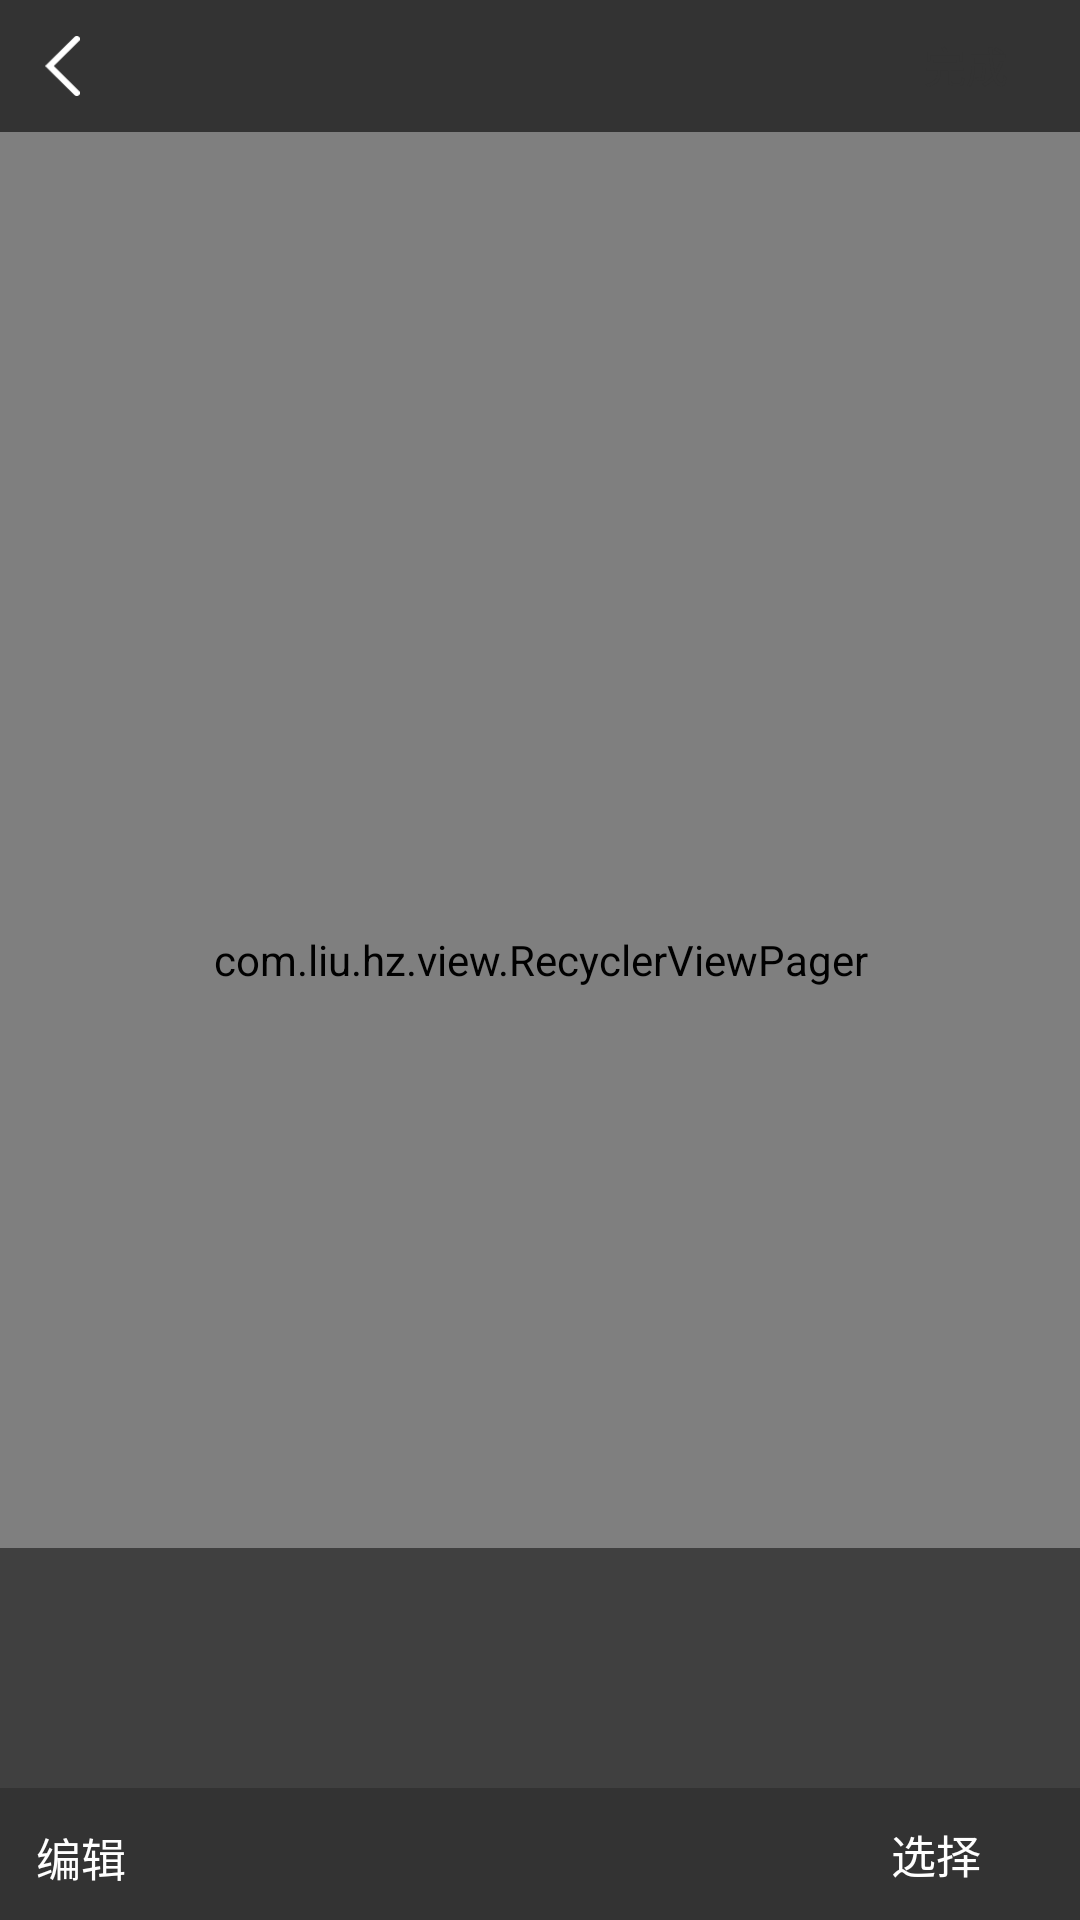

Screen size 1080 x 1920. Icon name, then its box in pixels as (x1, y1, x2, y2):
left arrow: (45, 36, 80, 96)
